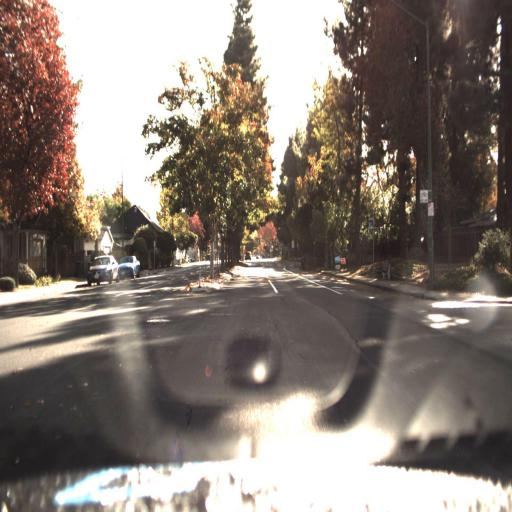car: (88, 247, 117, 284), (115, 254, 143, 282), (117, 254, 140, 282), (243, 244, 252, 265)
